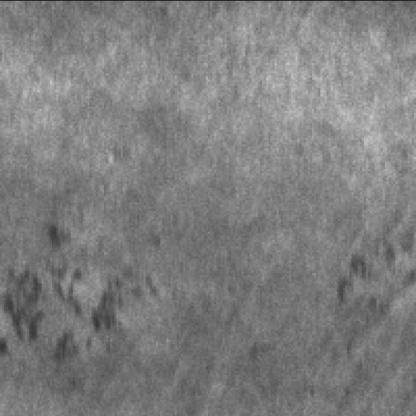rolled-in_scale: (2, 223, 173, 372), (335, 241, 416, 337)
